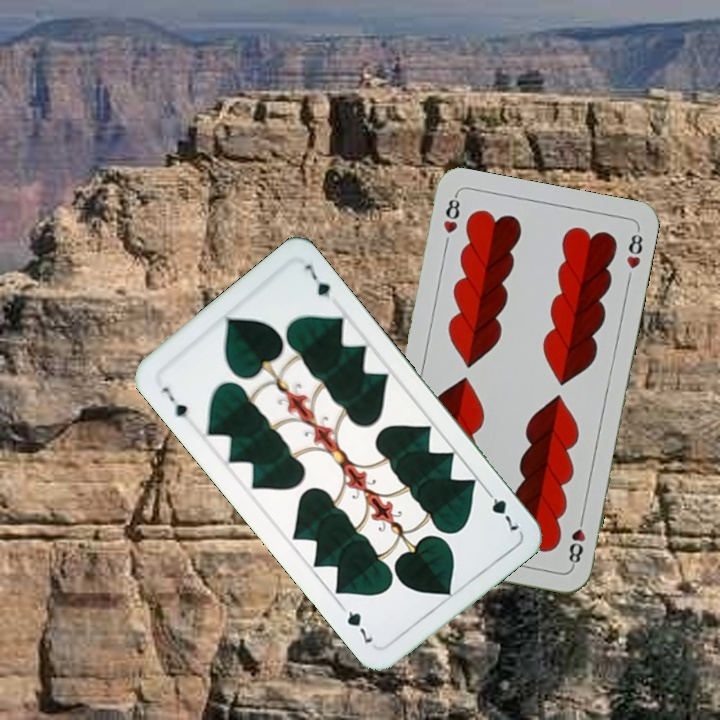G7: (480, 484, 524, 534), (158, 383, 190, 421)
H8: (564, 510, 588, 569), (439, 191, 463, 236)
